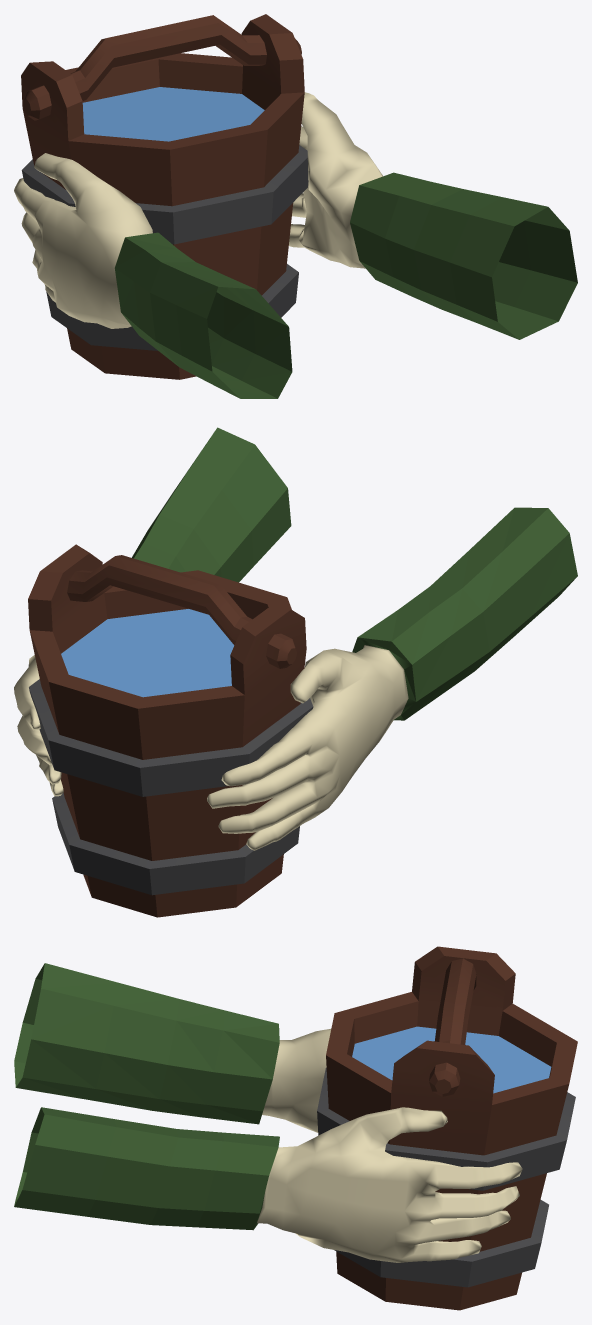
Rendered from EquipedEmptyBucketWater.fbx.
3 renders of one model, top to bottom at view 1: azimuth 30°, elevation 25°; view 2: azimuth 150°, elevation 25°; view 3: azimuth 270°, elevation 25°, orthographic. The views are drawn at different scales.
Visible parts, largest first — view 1: EquipedEmptyBucketWater; view 2: EquipedEmptyBucketWater; view 3: EquipedEmptyBucketWater.
Boxes of the visible parts, box(x1,y1,x2,y2) form: EquipedEmptyBucketWater: box(14, 14, 577, 398); EquipedEmptyBucketWater: box(14, 427, 577, 917); EquipedEmptyBucketWater: box(14, 946, 577, 1310).
Bounding box in the file's own units: 1.38 × 1.14 × 1.97.
Materials: 3 (3 with a texture image).
